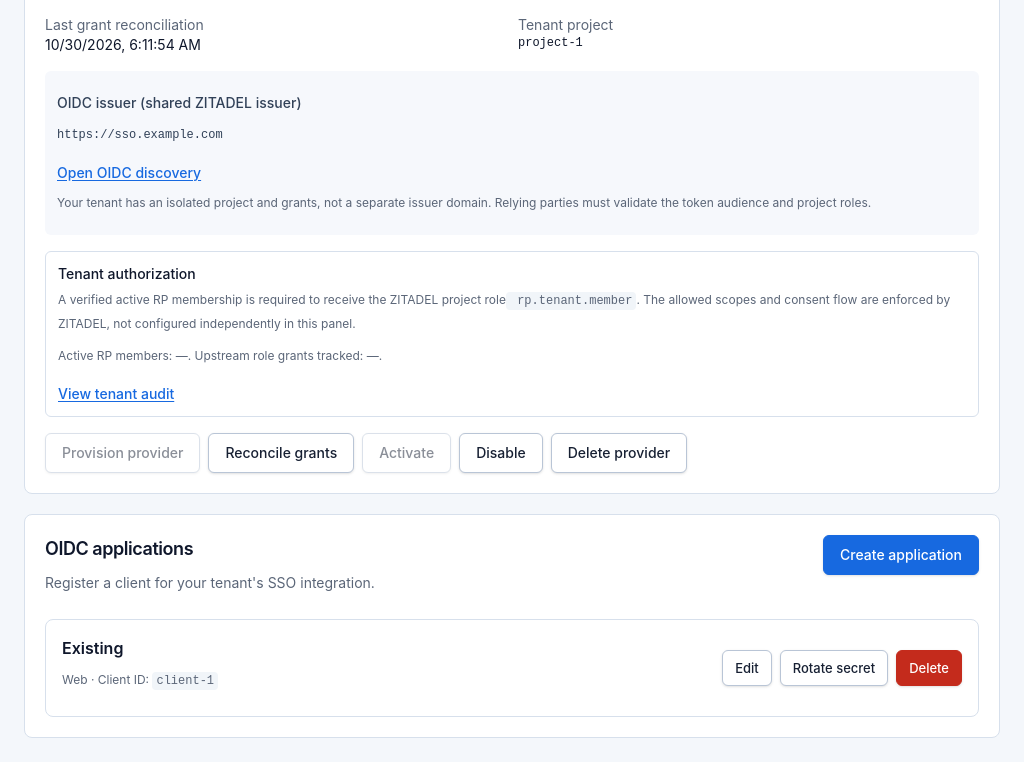
Test: Tenant Identity & SSO › opens confirmation before deleting a client
(page scrolled)
What coordinates should you click on to do the following:
click the button "Delete"
I would click on:
 (929, 668)
Its box is [896,650,962,686].
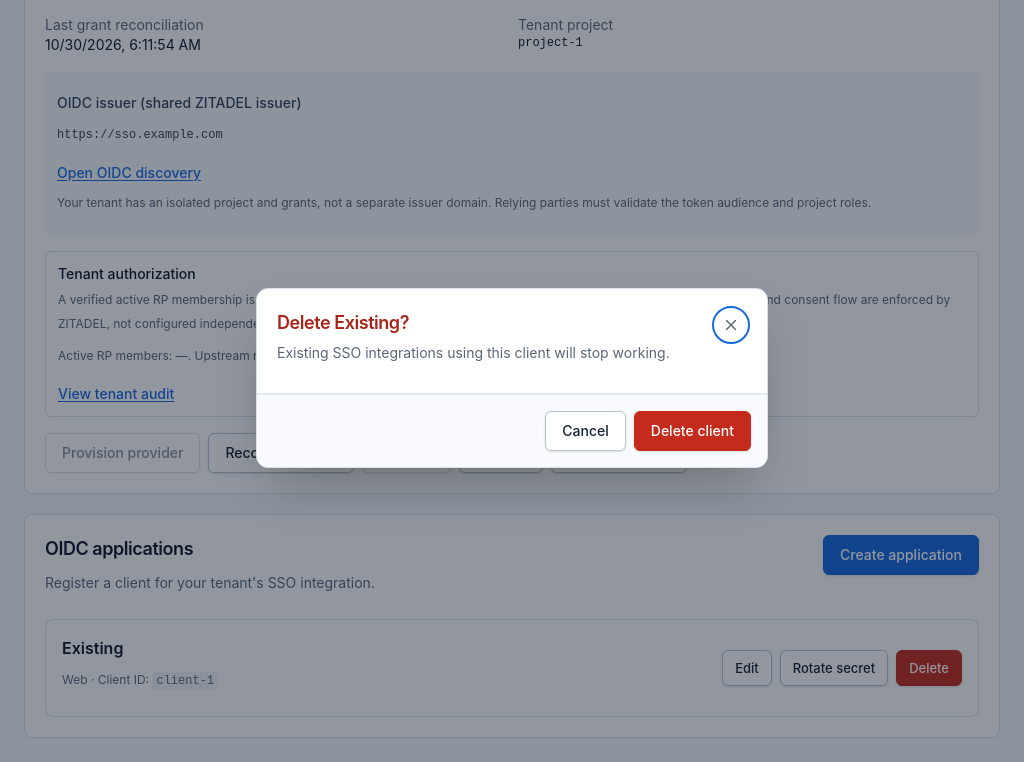
Expected: the dialog "Delete Existing?" is shown, [256,288,768,468]
